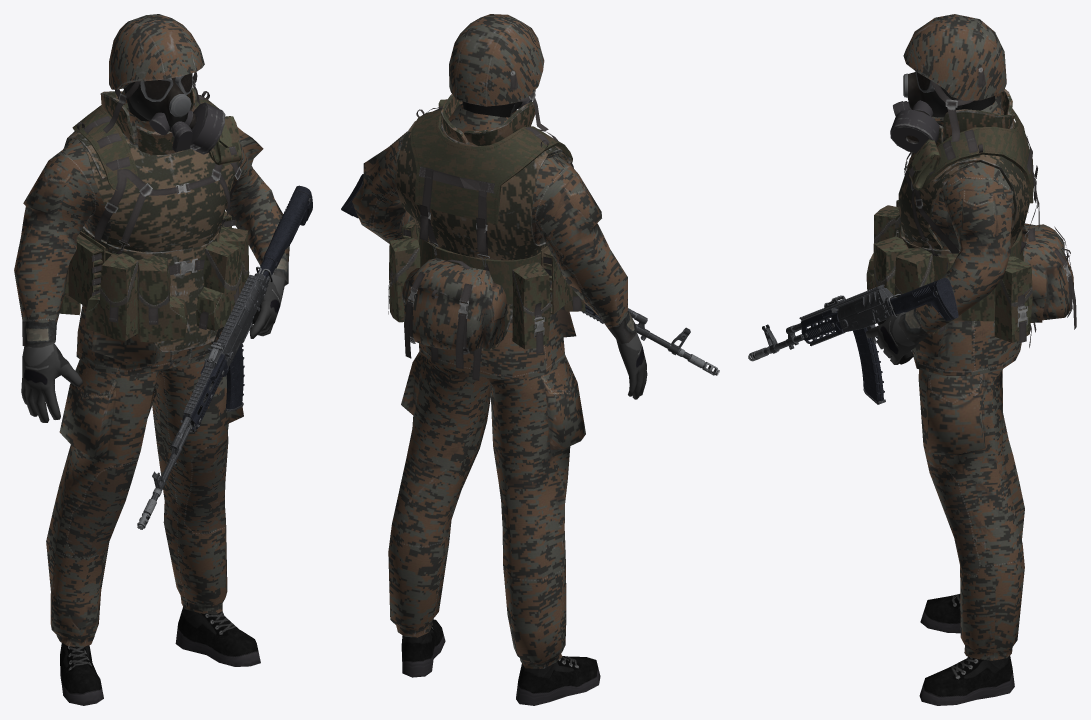
File: soldier_engineer.glb
The picture shows the model from 3 angles, left to right: view 1: azimuth 30°, elevation 25°; view 2: azimuth 150°, elevation 25°; view 3: azimuth 270°, elevation 25°; orthographic projection.
Parts seen in each view (by area): view 1: Object_2, Object_3, Object_4, Object_5; view 2: Object_2, Object_3, Object_4; view 3: Object_2, Object_3, Object_4, Object_5.
Boxes of the visible parts, <box> form: Object_2: <box>14,14,289,705</box>; Object_3: <box>137,191,311,529</box>; Object_4: <box>137,185,312,529</box>; Object_5: <box>137,190,311,529</box>; Object_2: <box>352,14,647,705</box>; Object_3: <box>341,174,719,375</box>; Object_4: <box>342,174,717,375</box>; Object_2: <box>865,14,1076,705</box>; Object_3: <box>748,278,958,404</box>; Object_4: <box>749,279,955,404</box>; Object_5: <box>766,287,936,401</box>.
Bounding box in the file's own units: 848 × 1805 × 836.
Materials: 2 (2 with a texture image).
